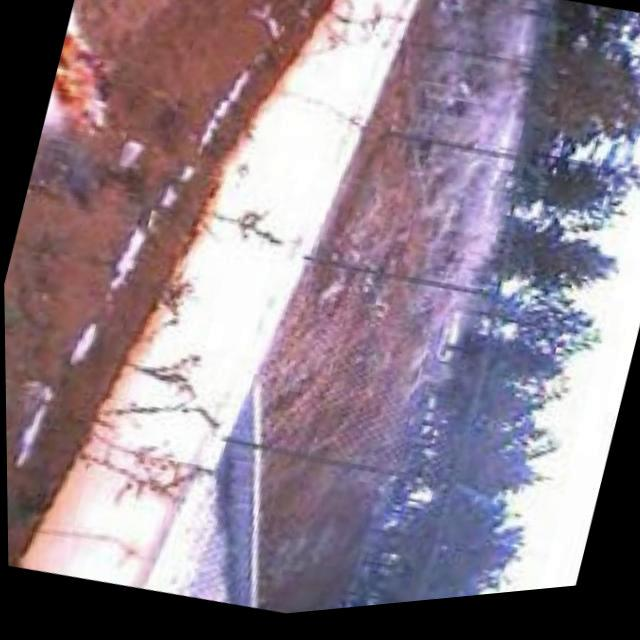fire: (42, 28, 114, 136)
